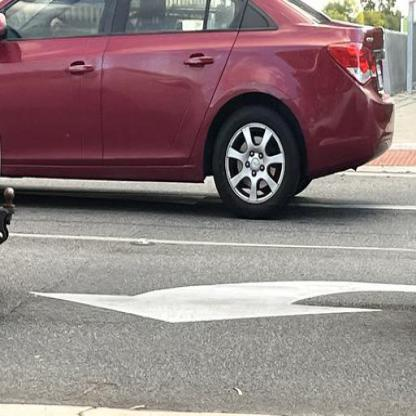Tire: (212, 104, 300, 219)
